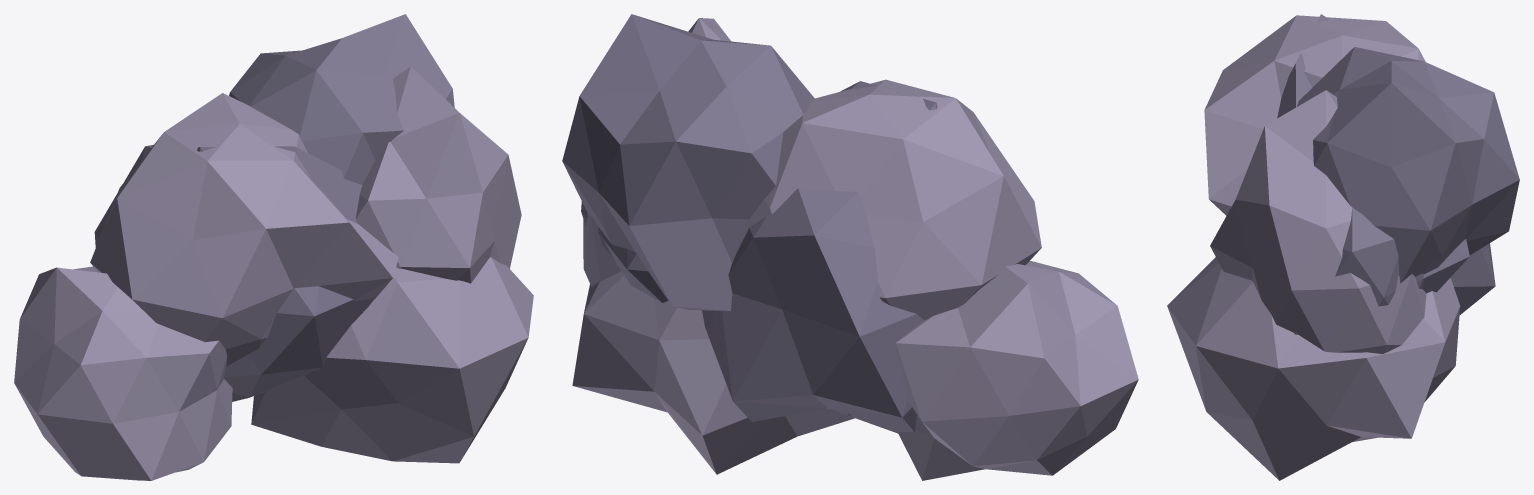
Rendered from kit__wall.fbx.
3 renders of one model, left to right at view 1: azimuth 30°, elevation 25°; view 2: azimuth 150°, elevation 25°; view 3: azimuth 270°, elevation 25°, orthographic. The views are drawn at different scales.
Parts seen in each view (by area): view 1: kit__wall; view 2: kit__wall; view 3: kit__wall.
Part boxes in pixels (left/top/right/bottom): kit__wall: left=14, top=14, right=533, bottom=480; kit__wall: left=562, top=14, right=1138, bottom=480; kit__wall: left=1167, top=14, right=1519, bottom=480.
Size of the model in its own units: 9.34 by 7.48 by 5.98.
